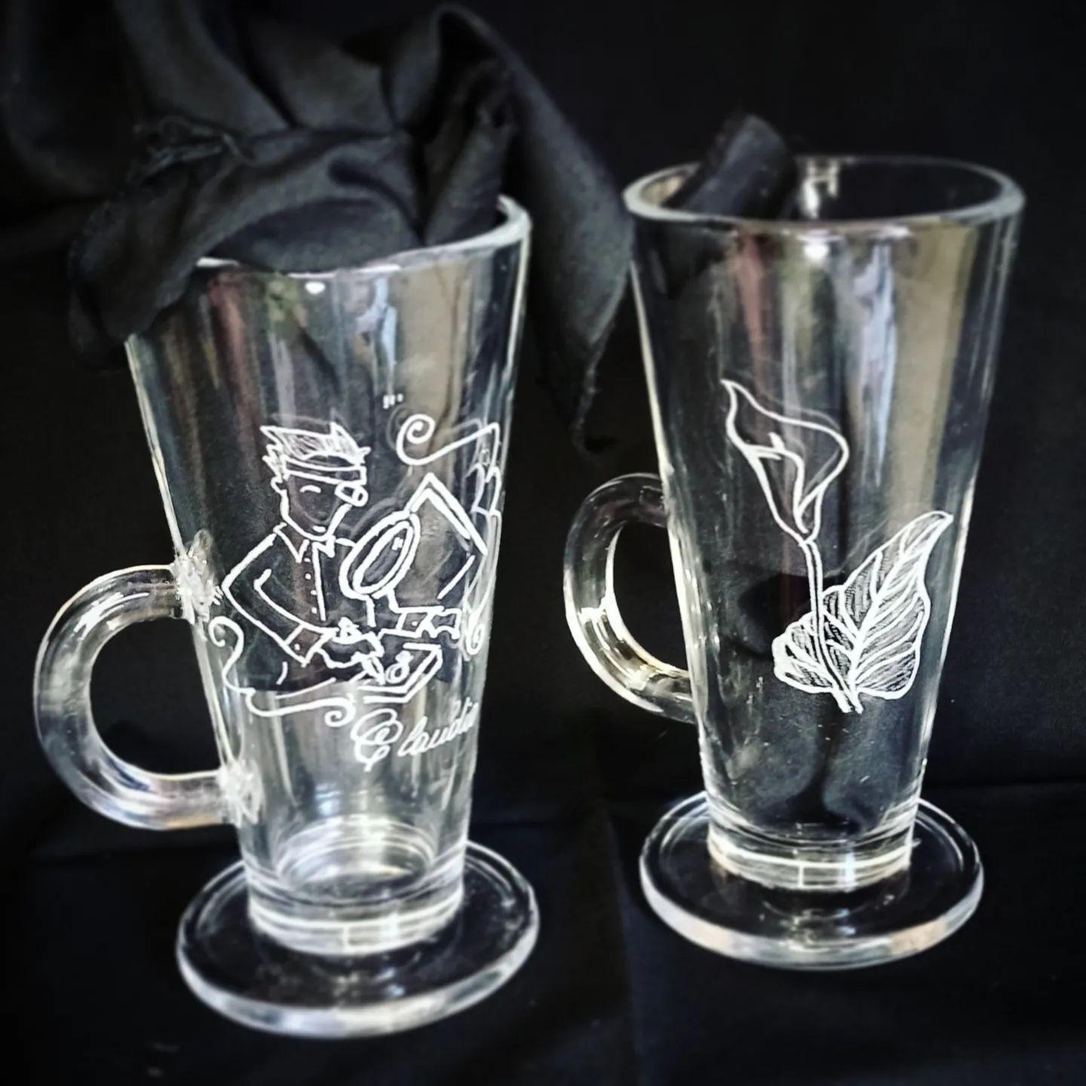glass-mug: (14, 194, 562, 1051), (559, 129, 1040, 985)
